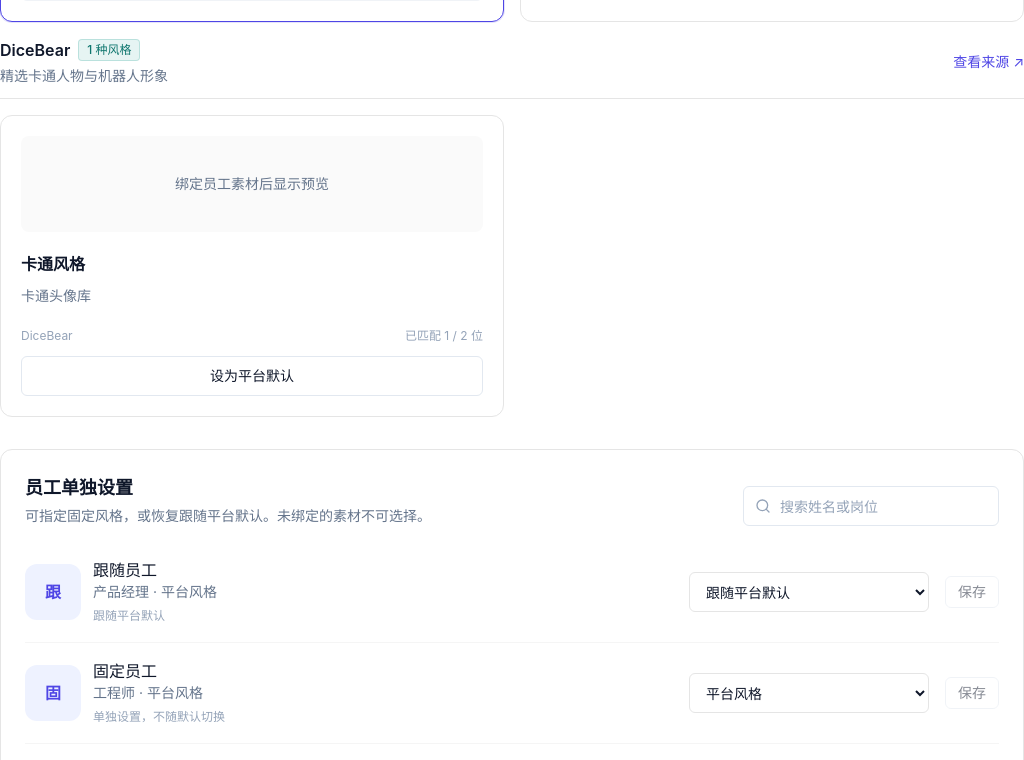
Scenario: AvatarStylesPage › 确认默认切换前默认只影响 followers，并在确认后发送 styleId
The width and height of the screenshot is (1024, 760).
(page scrolled)
Click the button "设为平台默认" at coordinates (252, 376), box [21,356,483,396]
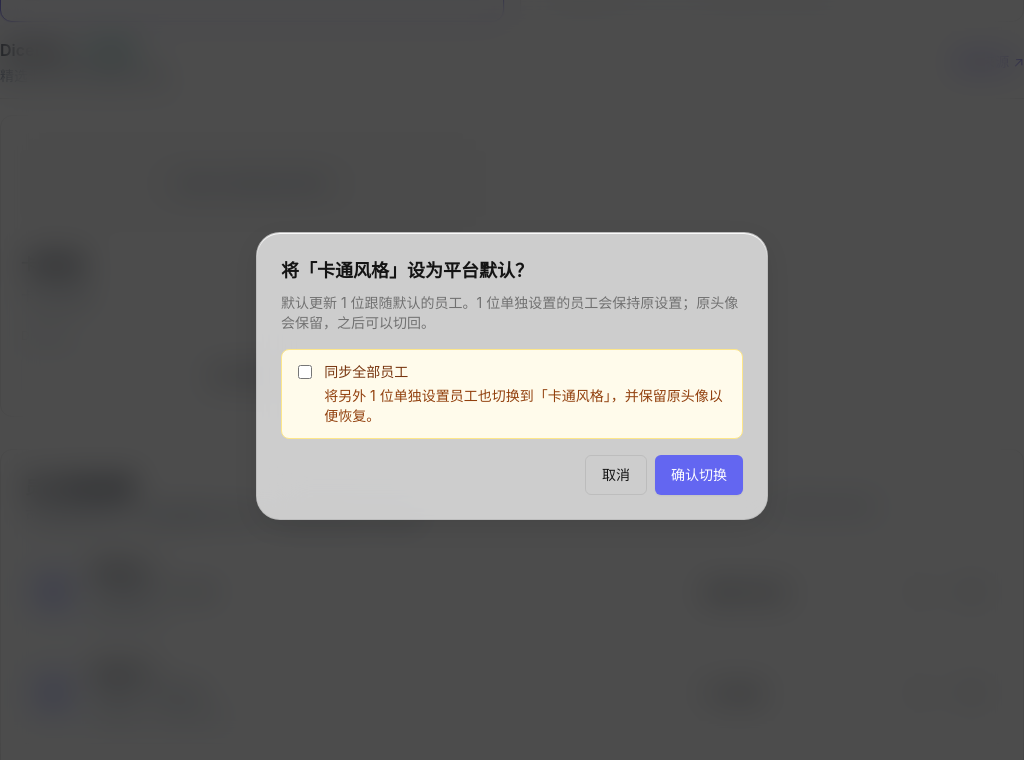
Expected: the dialog shows "默认更新 1 位跟随默认的员工。1 位单独设置的员工会保持原设置", [256,232,768,520]
Click the button "确认切换" at coordinates (699, 475), box [655,455,743,495]
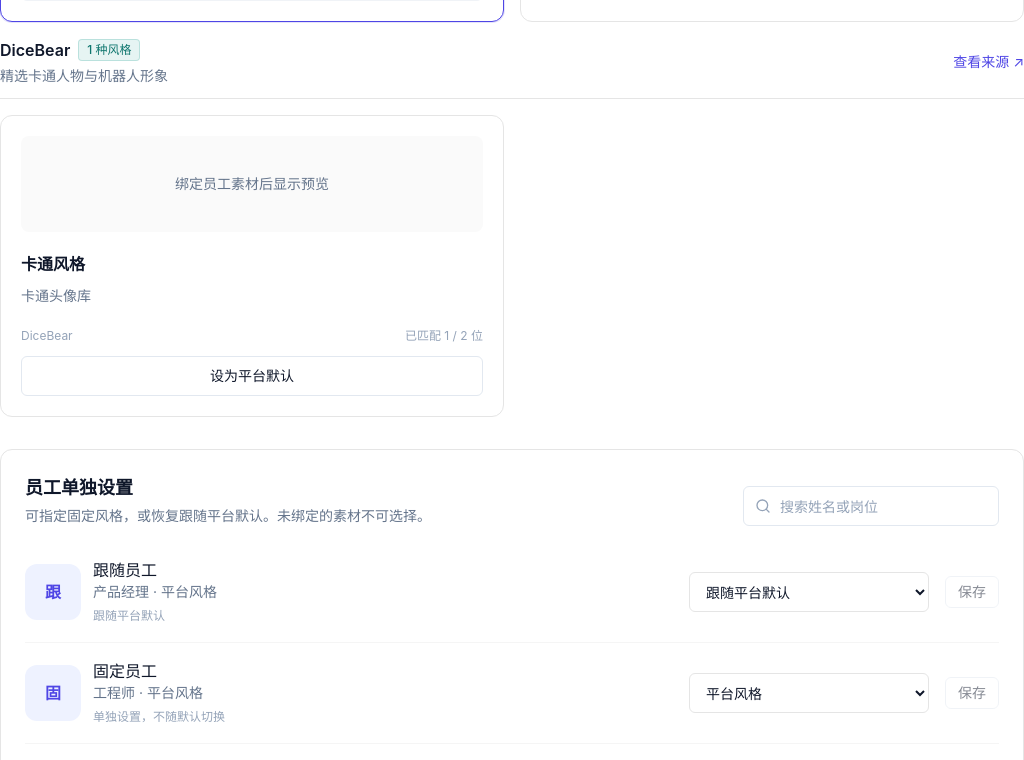
Expected: the dialog is gone
